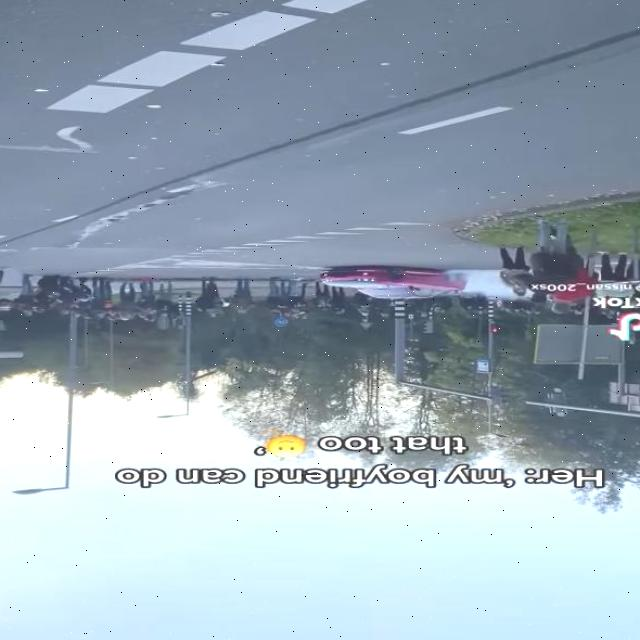car: (319, 262, 461, 304)
